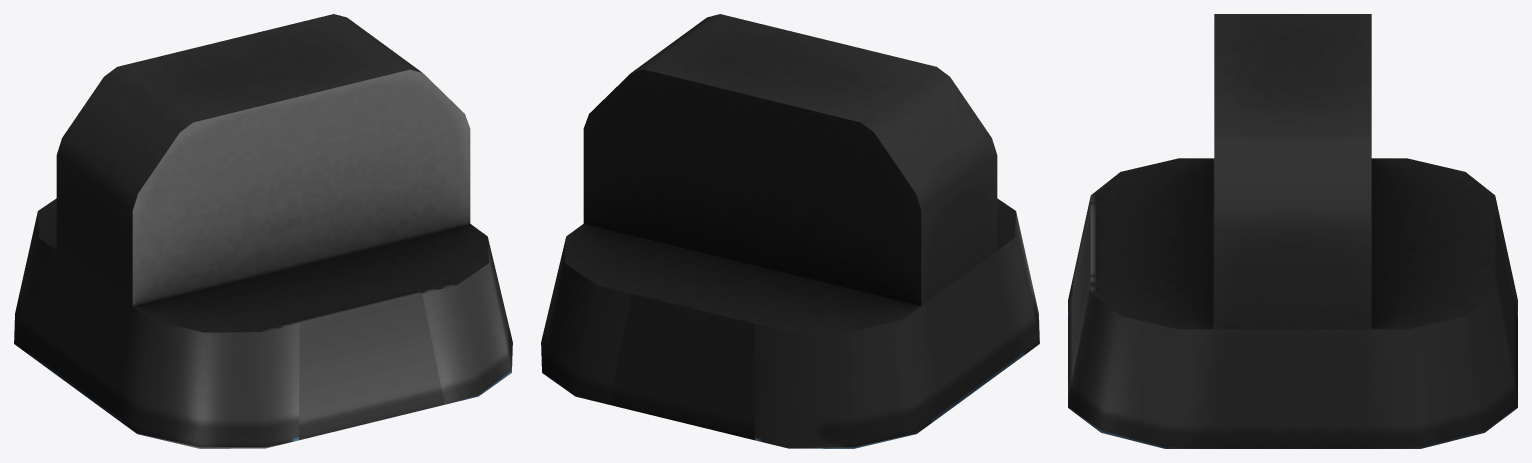
The model's file is Elbow_Left.obj.
3 views of the same model, side by side, from view 1: azimuth 30°, elevation 25°; view 2: azimuth 150°, elevation 25°; view 3: azimuth 270°, elevation 25° (orthographic). The views are drawn at different scales.
Visible parts, largest first — view 1: Elbow_Left; view 2: Elbow_Left; view 3: Elbow_Left.
Boxes of the visible parts, <box> form: Elbow_Left: <box>14,14,512,448</box>; Elbow_Left: <box>541,14,1039,448</box>; Elbow_Left: <box>1068,14,1517,448</box>.
Size of the model in its own units: 0.1001 by 0.07 by 0.1001.
Materials: 1 (1 with a texture image).
